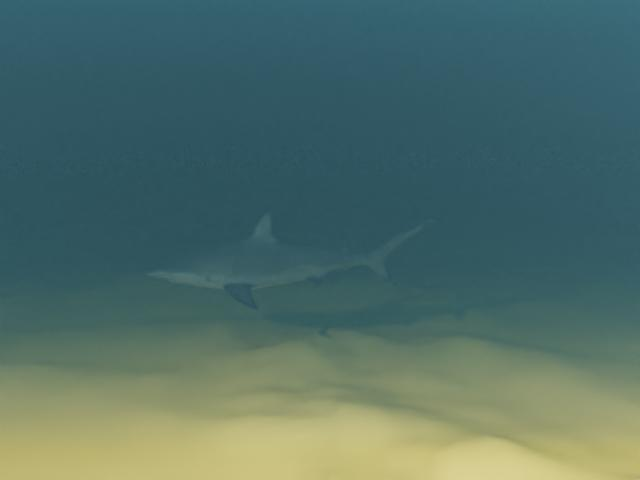Carribean Shark.001: (145, 209, 435, 310)
